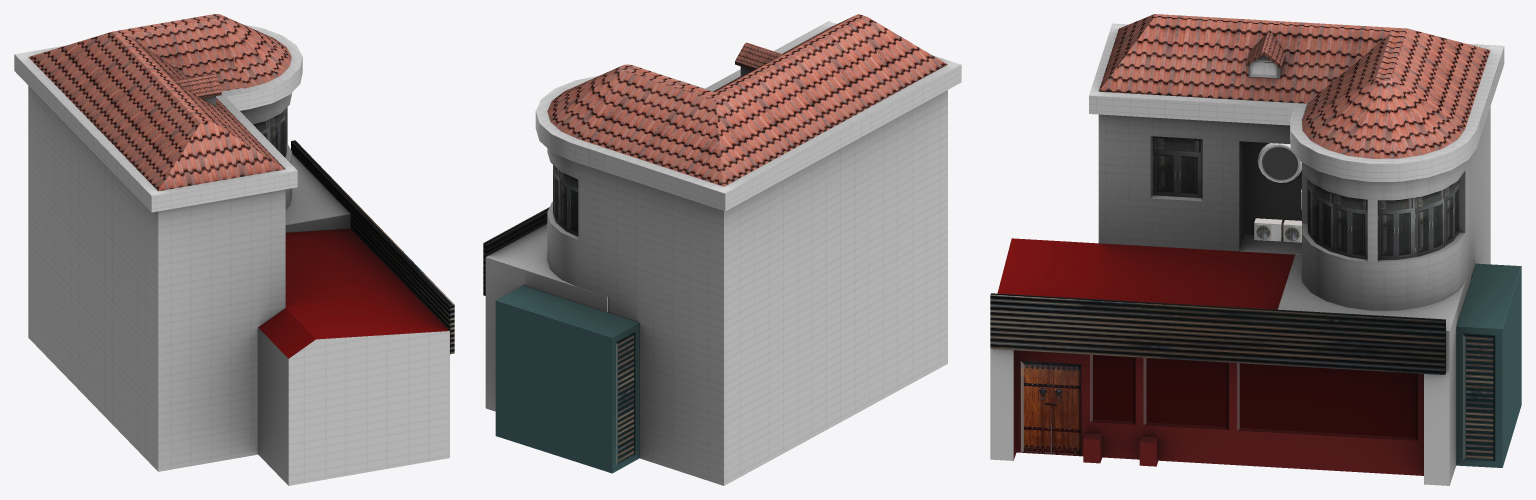
File: yyt.gltf
3 views of the same model, side by side, from view 1: azimuth 30°, elevation 25°; view 2: azimuth 150°, elevation 25°; view 3: azimuth 270°, elevation 25° (orthographic). The views are drawn at different scales.
Visible parts, largest first — view 1: polySurface6; view 2: polySurface6; view 3: polySurface6.
Part boxes in pixels (x1,y1,x2,y2): polySurface6: (14, 14, 454, 485); polySurface6: (483, 14, 961, 485); polySurface6: (990, 14, 1521, 485).
Bounding box in the file's own units: 0.6416 × 0.6677 × 0.9118.
Materials: 1 (1 with a texture image).
